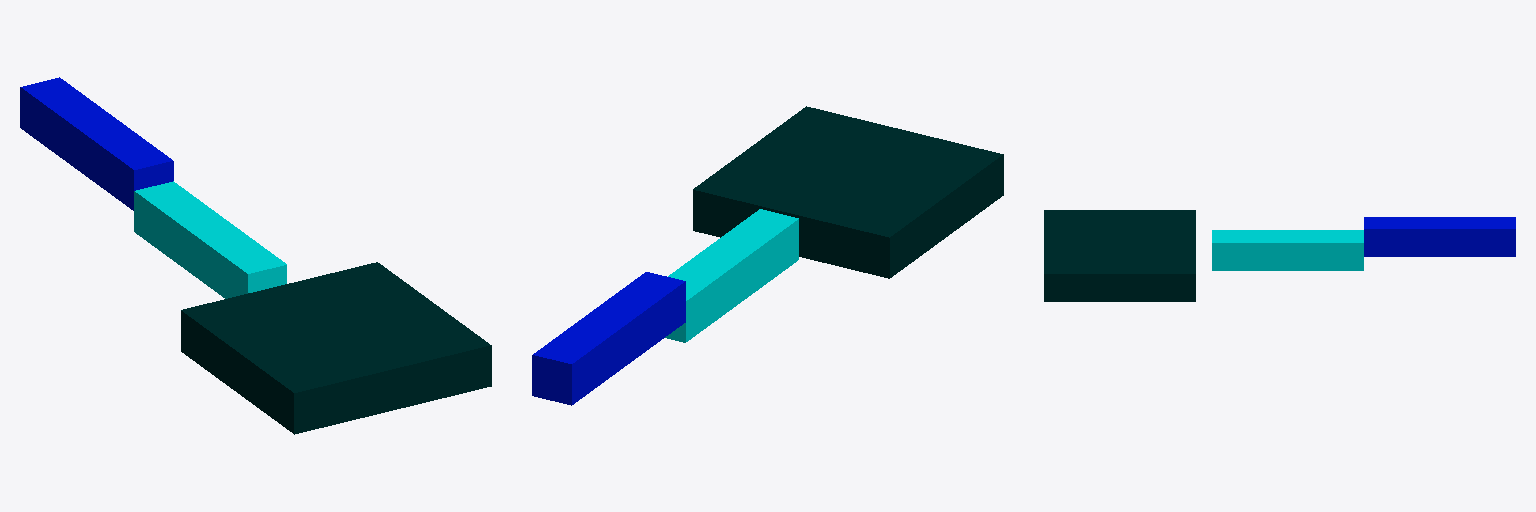
robot.urdf — pi_robot:
<robot name="pi_robot">

	<!-- * * * Link Definitions * * * -->

	<link name="base_link">
		<visual>
			<origin xyz="0 0 0.05" rpy="0 0 0" />
			<geometry>
				<box size="0.5 0.5 0.1" />
			</geometry>
			<material name="Grey">
				<color rgba="0 0.2 0.2 1.0" />
			</material>
		</visual>
		<inertial>
			<mass value="2" />
			<origin xyz="0 0 0.05" rpy="0 0 0" />
			<inertia ixx="0.4" ixy="0.0" ixz="0.0" iyy="0.4" iyz="0.0" izz="0.2" />
		</inertial>
		<collision>
			<origin xyz="0 0 0.05" rpy="0 0 0" />
			<geometry>
				<box size="0.5 0.5 0.1" />
			</geometry>
		</collision>
	</link>

	<gazebo reference="base_link">
		<mu1>0.02</mu1>
		<mu2>0.02</mu2>
		<material>Gazebo/Blue</material>
	</gazebo>


	<link name="leg1">
		<visual>
			<origin xyz="0 0.25 0.0" rpy="0 0 0" />
			<geometry>
				<box size="0.1 0.5 0.1" />
			</geometry>
			<material name="Cyan1">
				<color rgba="0 0.9 0.9 1.0" />
			</material>
		</visual>
		<inertial>
			<origin xyz="0 0.25 0.0" rpy="0 0 0" />
			<mass value="0.2" />
			<inertia ixx="0.1" ixy="0.0" ixz="0.0" iyy="0.1" iyz="0.0" izz="0.1" />
		</inertial>
		<collision>

			<origin xyz="0 0.25 0.0" rpy="0 0 0" />
			<geometry>
				<box size="0.1 0.5 0.1" />
			</geometry>
		</collision>
	</link>

	<link name="leg2">
		<visual>
			<origin xyz="0 0.25 0.0" rpy="0 0 0" />
			<geometry>
				<box size="0.1 0.5 0.1" />
			</geometry>
			<material name="blue">
				<color rgba="0 0.1 0.9 1.0" />
			</material>
		</visual>
		<inertial>
			<origin xyz="0 0.25 0.0" rpy="0 0 0" />
			<mass value="0.2" />
			<inertia ixx="0.1" ixy="0.0" ixz="0.0" iyy="0.1" iyz="0.0" izz="0.1" />
		</inertial>
		<collision>
			<origin xyz="0 0.25 0.0" rpy="0 0 0" />
			<geometry>
				<box size="0.1 0.5 0.1" />
			</geometry>
		</collision>
	</link>

	<gazebo reference="leg2">
		<mu1>0.2</mu1>
		<mu2>0.2</mu2>
		<material>Gazebo/Black</material>
	</gazebo>


	<joint name="leg1joint" type="revolute">
		<parent link="base_link" />
		<child link="leg1" />
		<limit effort="10000" lower="0.0" upper="1.57" velocity="0.5" />
		<axis xyz="1 0 0" />
		<origin xyz="0 0.3 0.07" />
		<dynamics damping="0.2" />
	</joint>

	<joint name="leg2joint" type="revolute">
		<parent link="leg1" />
		<child link="leg2" />
		<limit effort="10000" lower="-1.57" upper="0.0" velocity="0.5" />
		<axis xyz="1 0 0" />
		<origin xyz="0 0.5 0.05" />
		<dynamics damping="0.2" />
	</joint>
</robot> 

--- Facts derived from the render (not from the file) ---
Views: 3 orthographic renders of the robot side by side, from view 1: azimuth 30°, elevation 25°; view 2: azimuth 150°, elevation 25°; view 3: azimuth 270°, elevation 25°.
Model pi_robot with 3 links and 2 joints (2 revolute), rooted at base_link, posed all joints at 0.
Visible links, largest first — view 1: base_link, leg2, leg1; view 2: base_link, leg2, leg1; view 3: base_link, leg1, leg2.
Boxes of the visible links, x1,y1,x2,y2 form: base_link: (181, 262, 491, 434); leg2: (20, 77, 173, 210); leg1: (134, 181, 286, 298); base_link: (693, 106, 1003, 278); leg2: (532, 272, 685, 405); leg1: (665, 209, 798, 342); base_link: (1044, 210, 1195, 301); leg1: (1212, 230, 1363, 270); leg2: (1364, 217, 1515, 256).
Size in the robot's own frame: 0.5 by 1.55 by 0.17 metres.
Geometry: primitives only (box / cylinder / sphere), no mesh files.